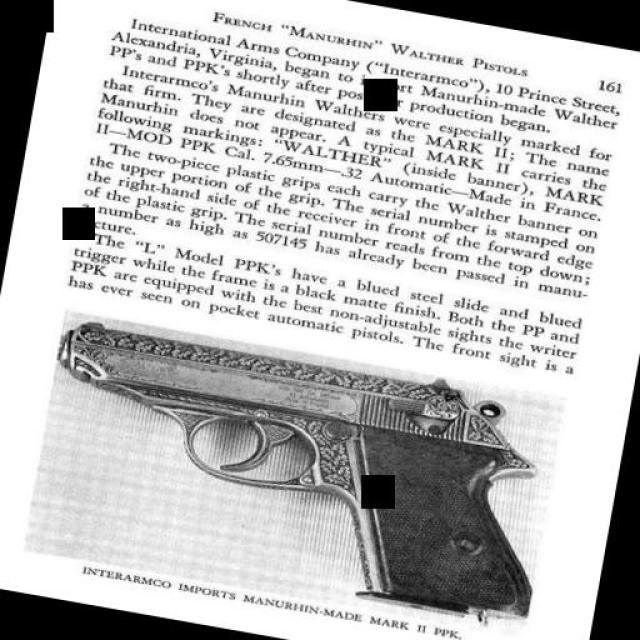gun: (24, 313, 570, 632)
